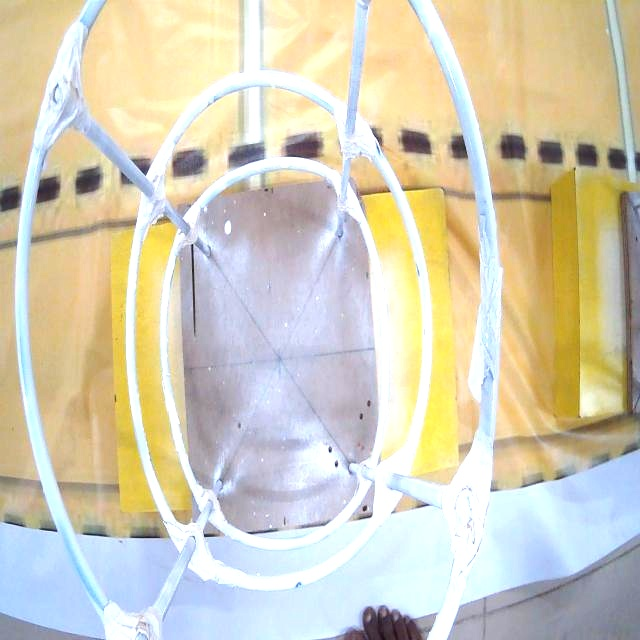silo: (1, 2, 507, 640)
